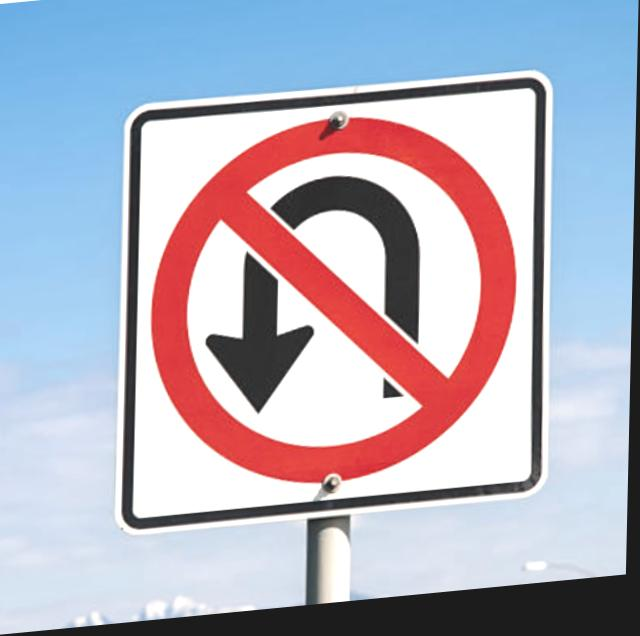not_u_turn_left: (149, 102, 530, 512)
